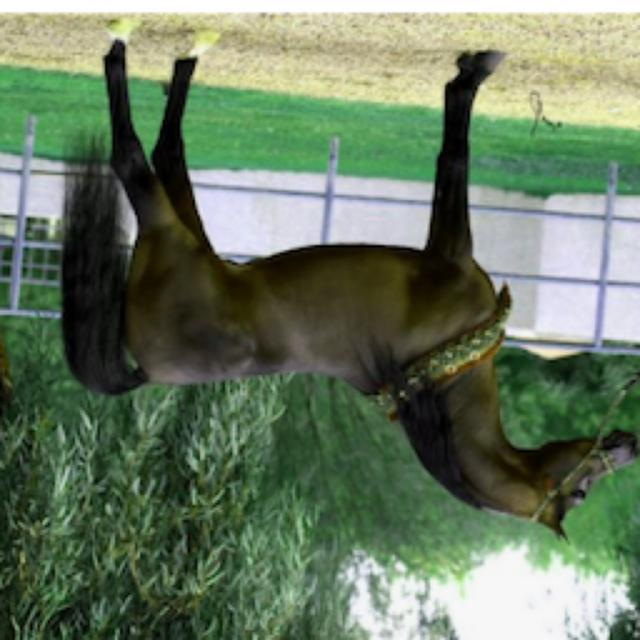Horse: (48, 20, 638, 548)
